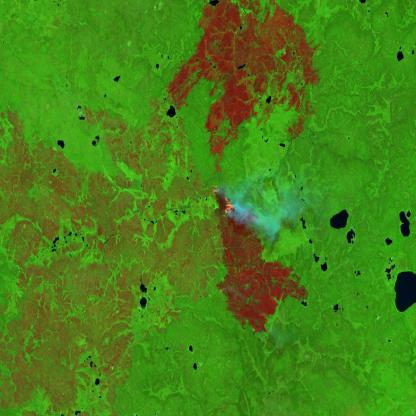fire: (214, 179, 239, 221)
